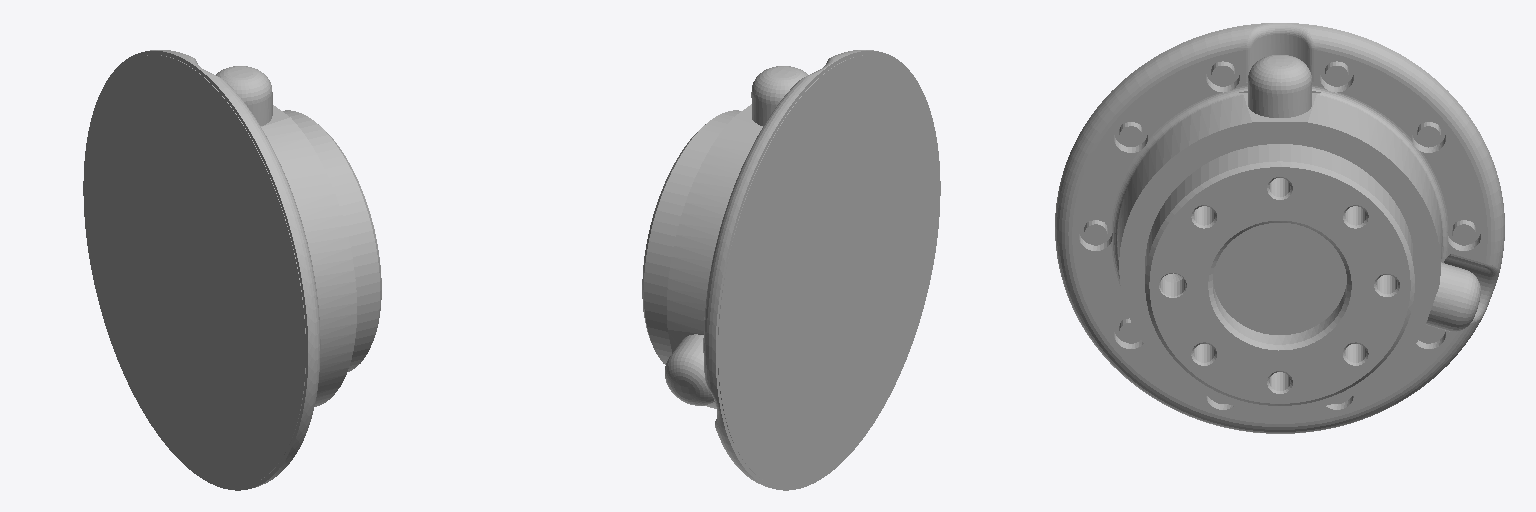
File: Joint_6.obj
The picture shows the model from 3 angles: view 1: azimuth 30°, elevation 25°; view 2: azimuth 150°, elevation 25°; view 3: azimuth 270°, elevation 25°; orthographic projection.
Visible parts, largest first — view 1: Solid1; view 2: Solid1; view 3: Solid1.
Boxes of the visible parts, x1,y1,x2,y2 form: Solid1: [83, 50, 381, 490]; Solid1: [642, 50, 940, 490]; Solid1: [1055, 23, 1504, 433].
Bounding box in the file's own units: 0.0326 × 0.1051 × 0.1051.